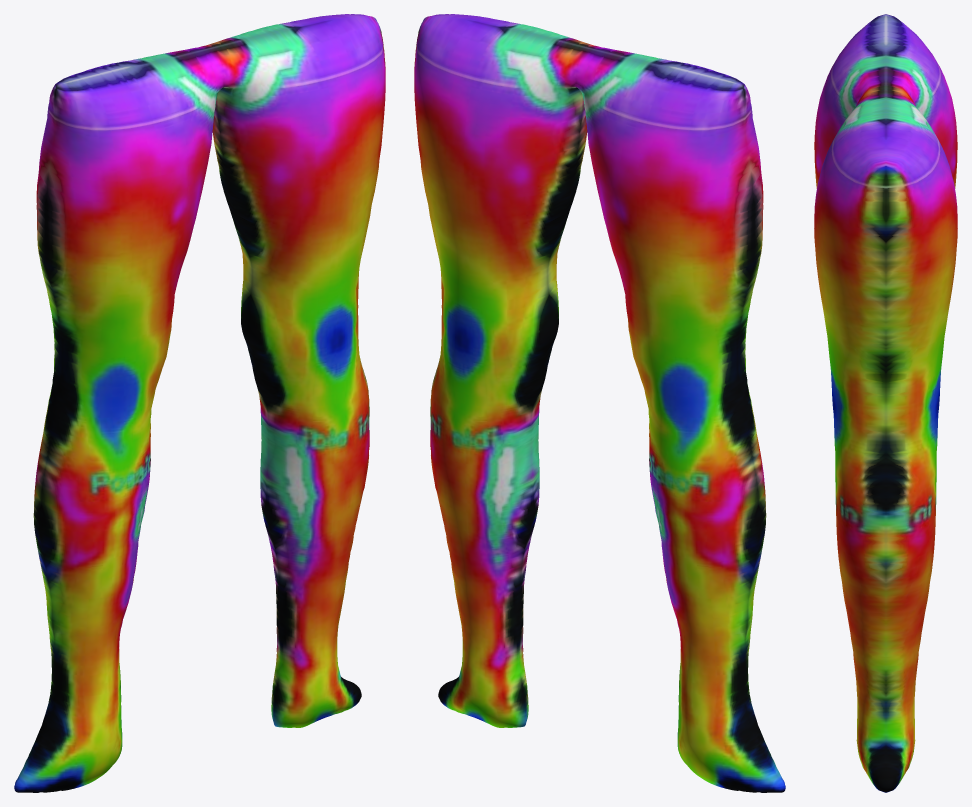
File: mm_project (1).glb
The picture shows the model from 3 angles, left to right: view 1: azimuth 30°, elevation 25°; view 2: azimuth 150°, elevation 25°; view 3: azimuth 270°, elevation 25°; orthographic projection. The views are drawn at different scales.
Size of the model in its own units: 3.78 by 7 by 1.39.
Materials: 1 (1 with a texture image).
